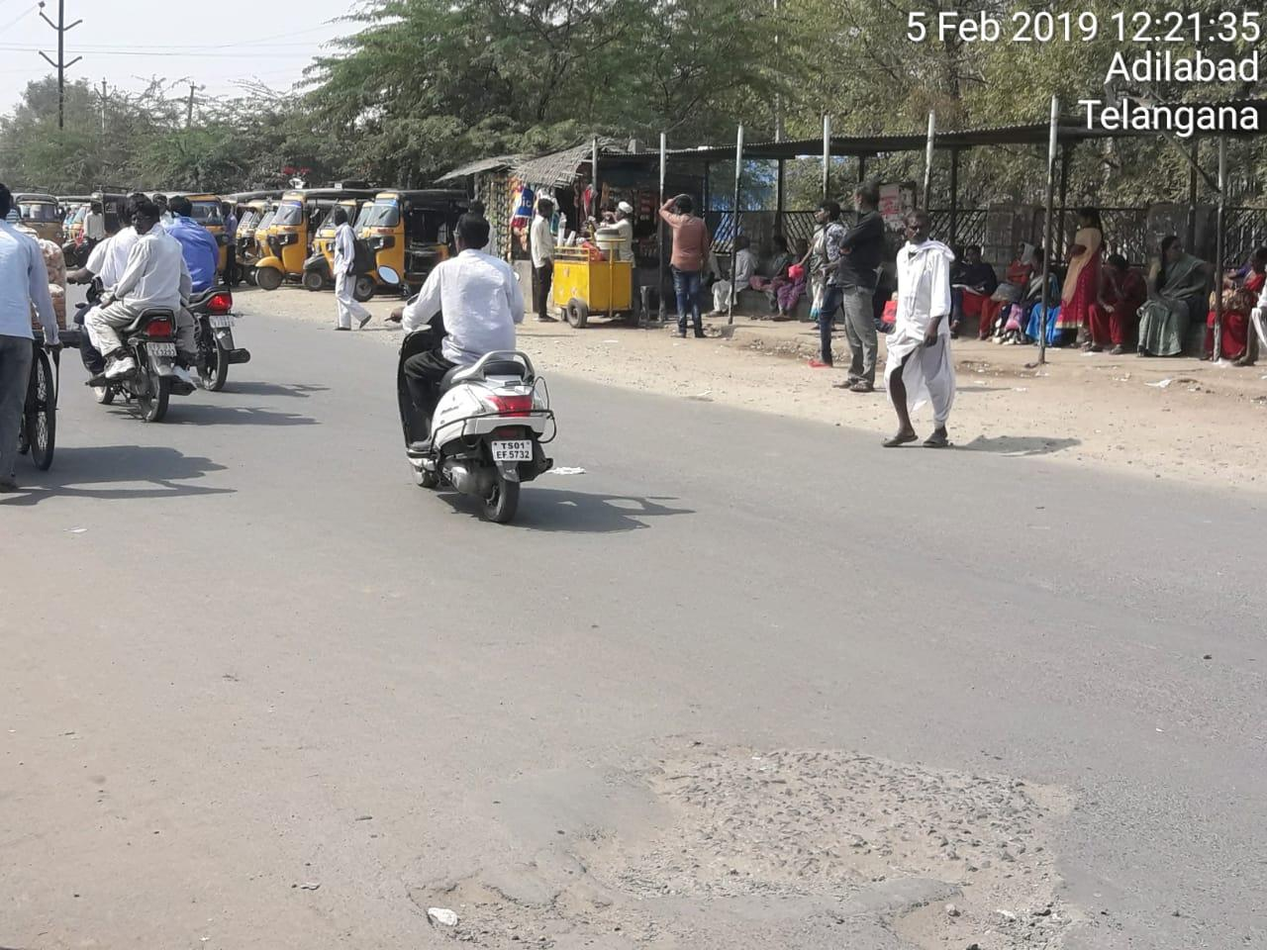plate: (487, 432, 538, 470), (144, 335, 181, 364)
